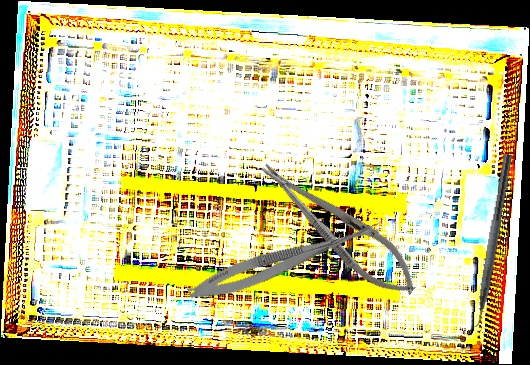Chopper: (462, 151, 513, 339)
Micro Scissor: (184, 209, 386, 309)
Needle Holder: (249, 147, 429, 309)
